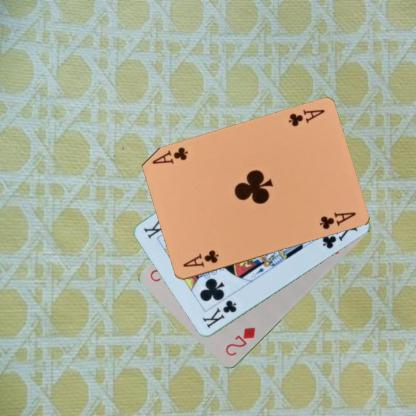2d: (223, 324, 257, 358)
Ac: (180, 247, 220, 269), (285, 107, 326, 128)
Kc: (199, 297, 238, 330)
